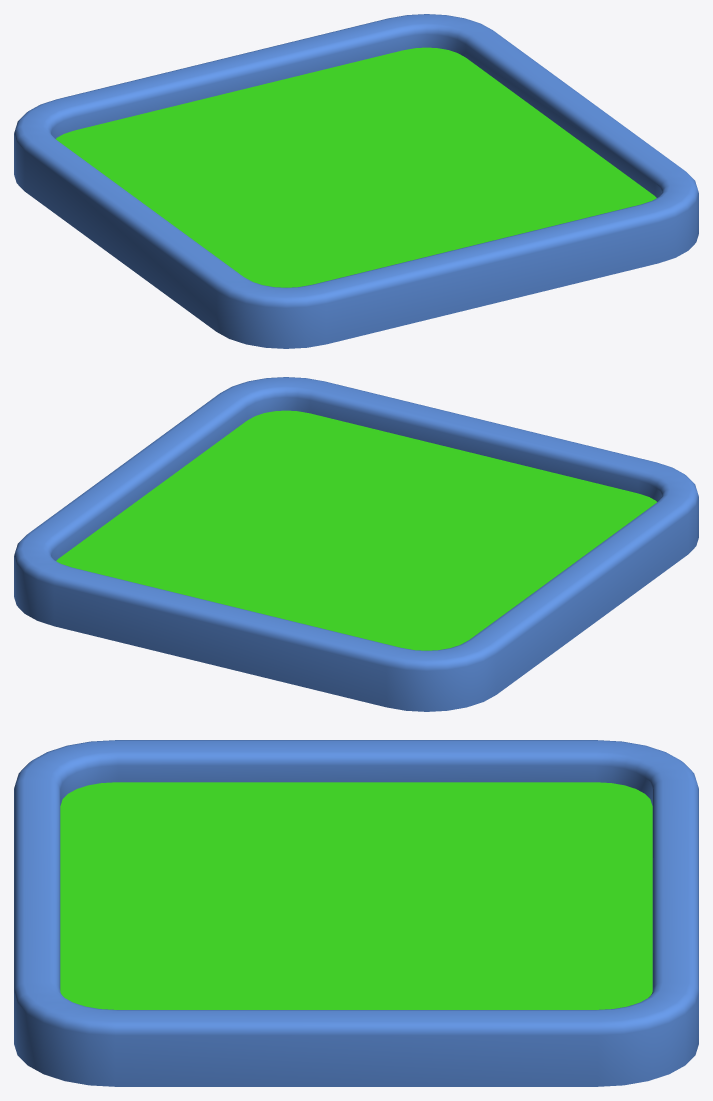
File: plat v2 .fbx
The picture shows the model from 3 angles, top to bottom: view 1: azimuth 30°, elevation 25°; view 2: azimuth 150°, elevation 25°; view 3: azimuth 270°, elevation 25°; orthographic projection. The views are drawn at different scales.
Parts seen in each view (by area): view 1: plat 2, plat 1; view 2: plat 2, plat 1; view 3: plat 2, plat 1.
Part boxes in pixels (<box>): plat 2: <box>56,47,656,287</box>; plat 1: <box>14,14,698,348</box>; plat 2: <box>56,410,656,650</box>; plat 1: <box>14,377,698,711</box>; plat 2: <box>60,782,652,1009</box>; plat 1: <box>14,740,698,1086</box>.
Bounding box in the file's own units: 39.21 × 3.83 × 39.21.
